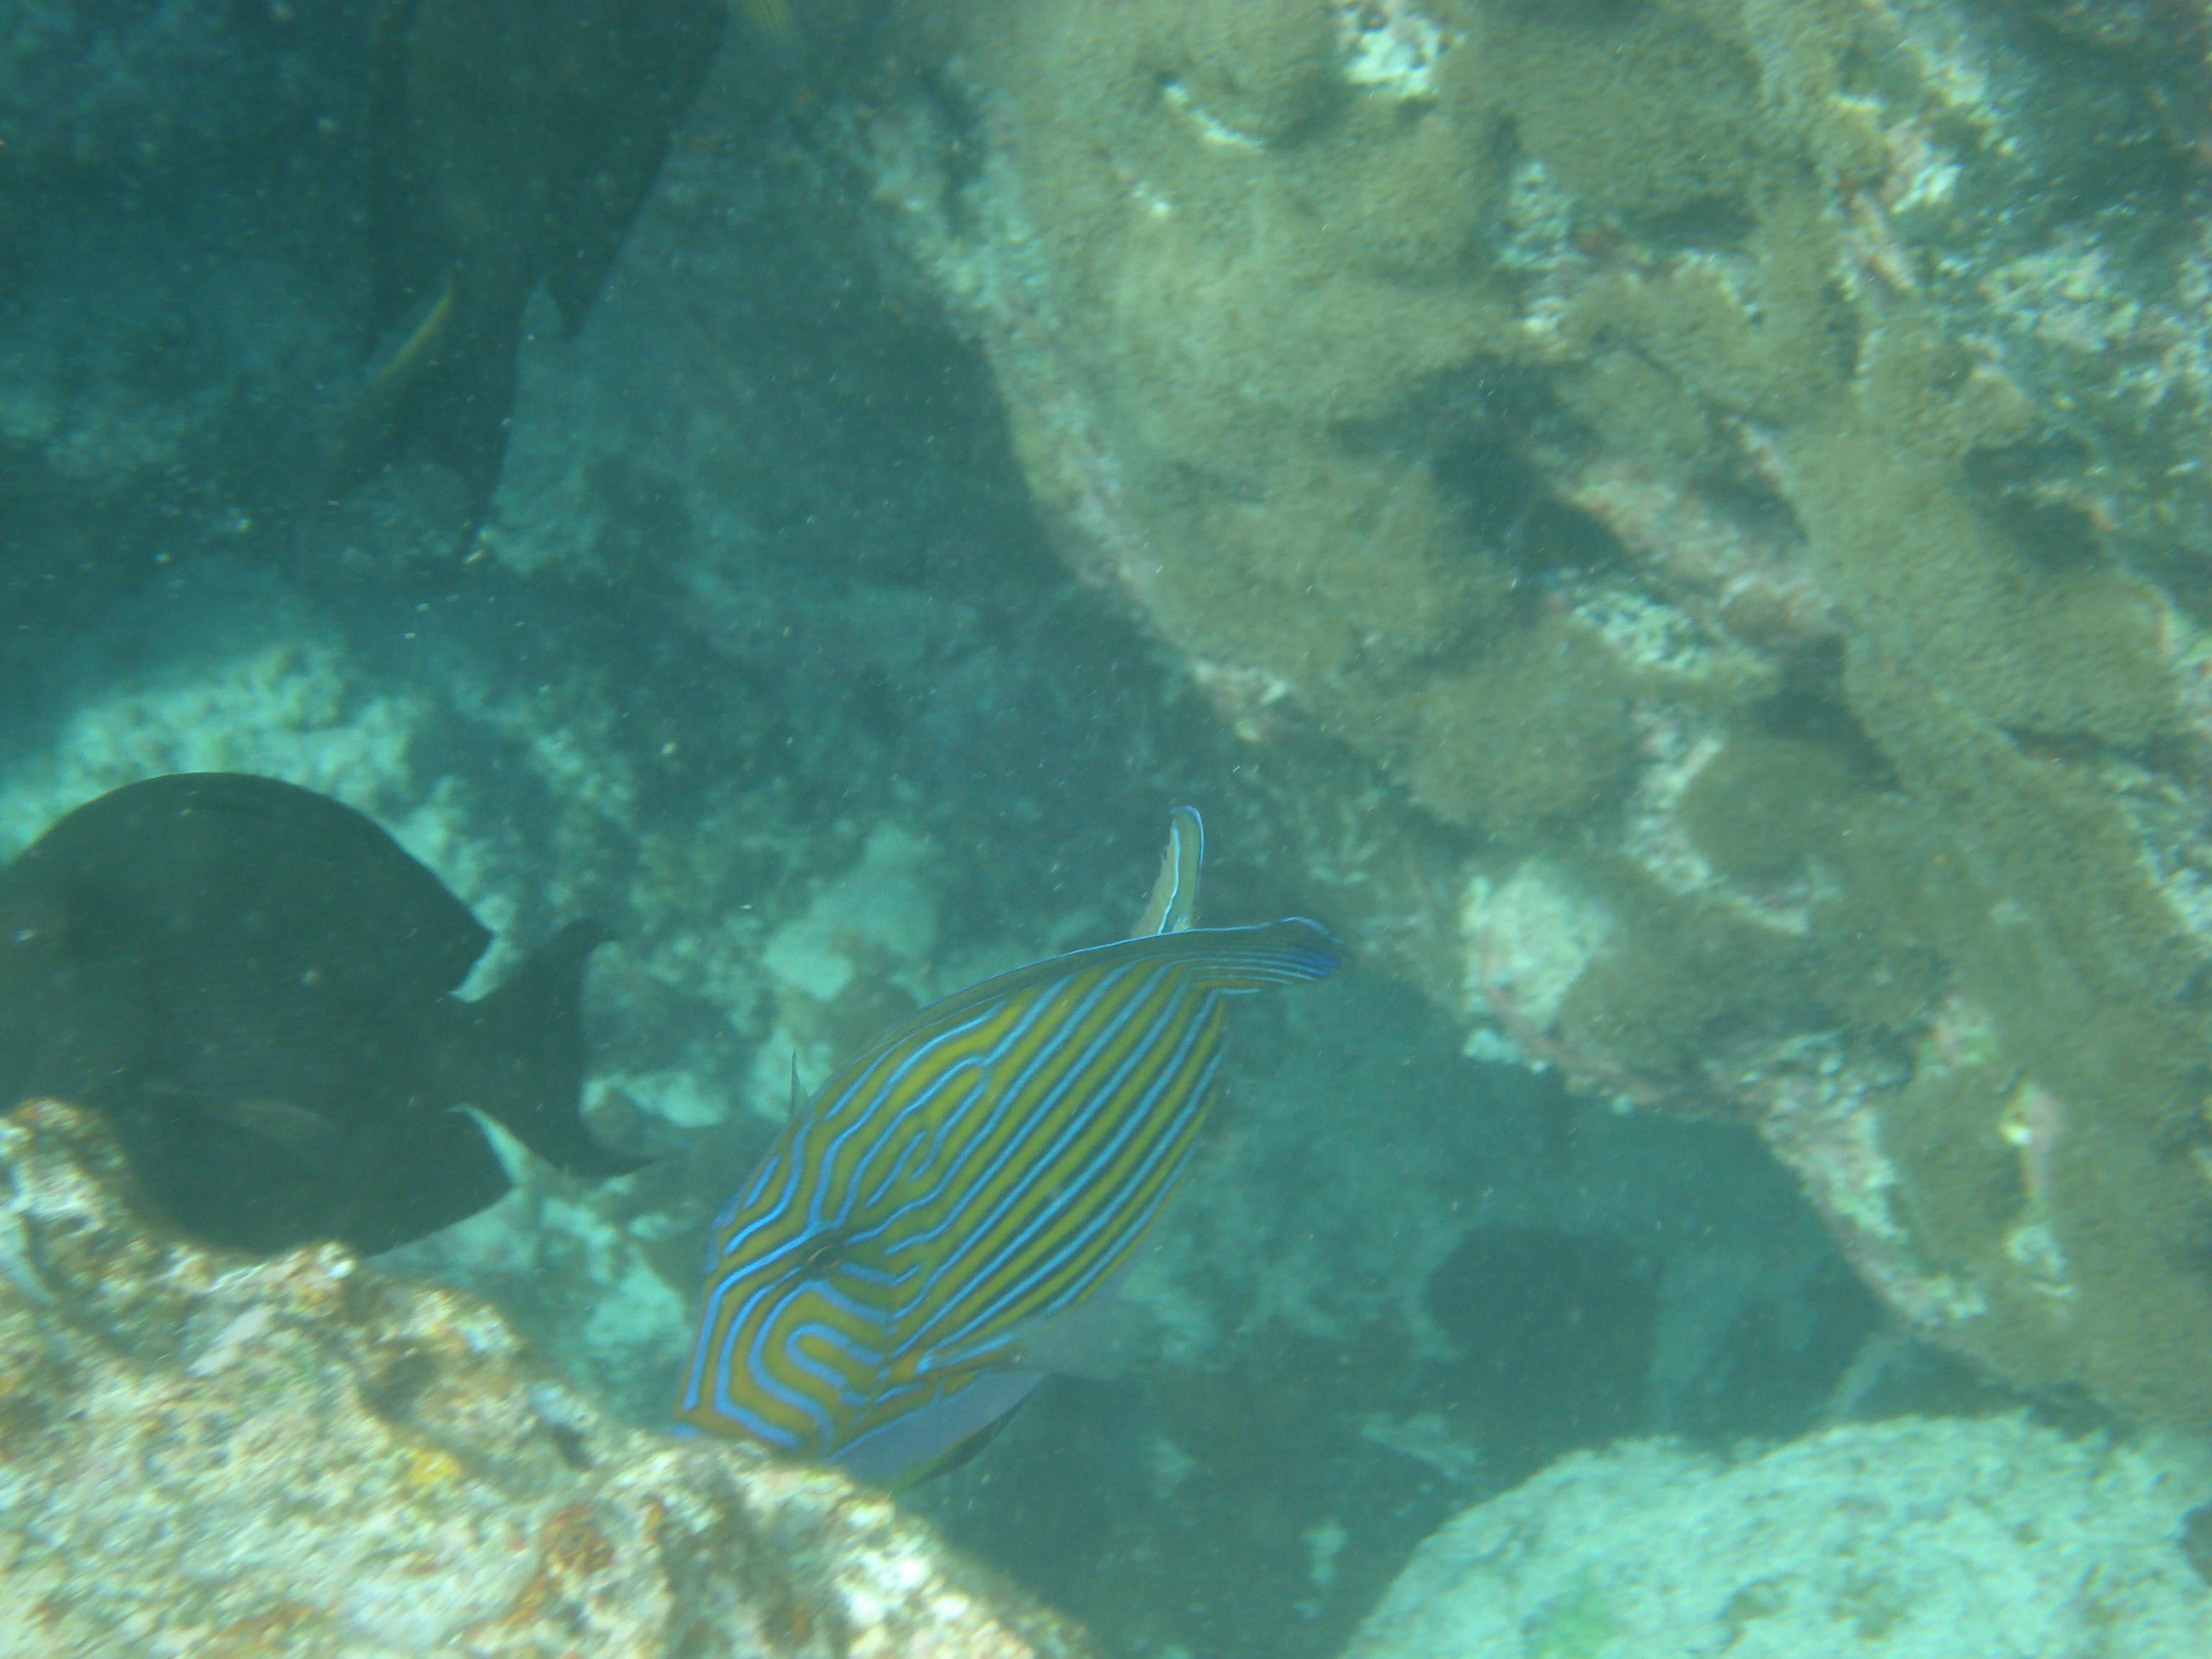Acanthurus lineatus: (627, 777, 1348, 1560)
